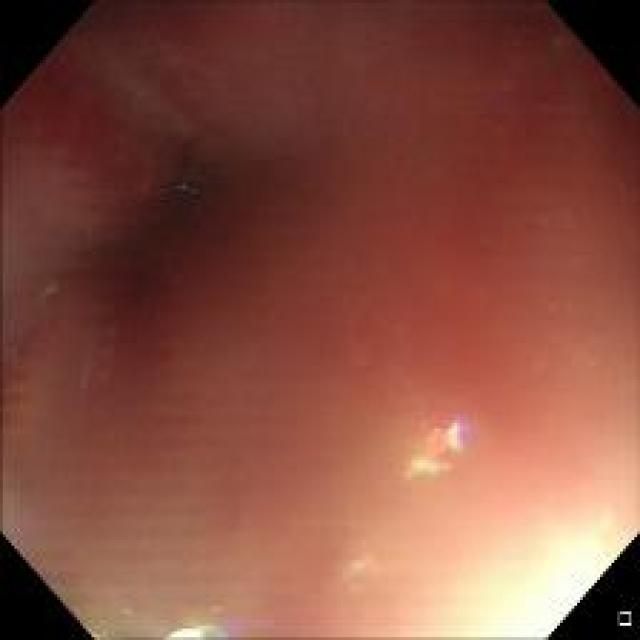blur: (4, 2, 634, 635)
color misalignment: (404, 414, 468, 481), (161, 616, 240, 636)
contrast: (94, 130, 220, 260)
saturation: (479, 521, 632, 638)
